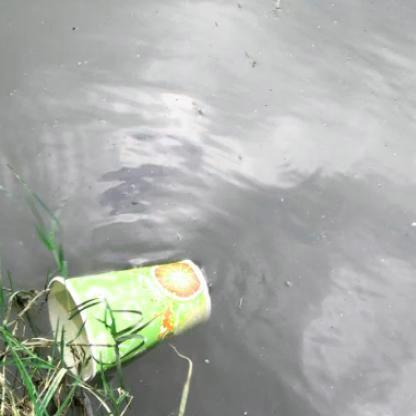Plastic: (43, 257, 214, 383)
